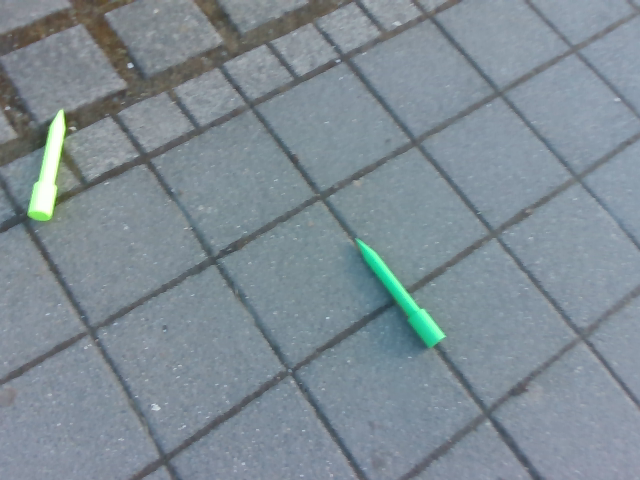Probe: (350, 232, 449, 352), (23, 102, 72, 225)
